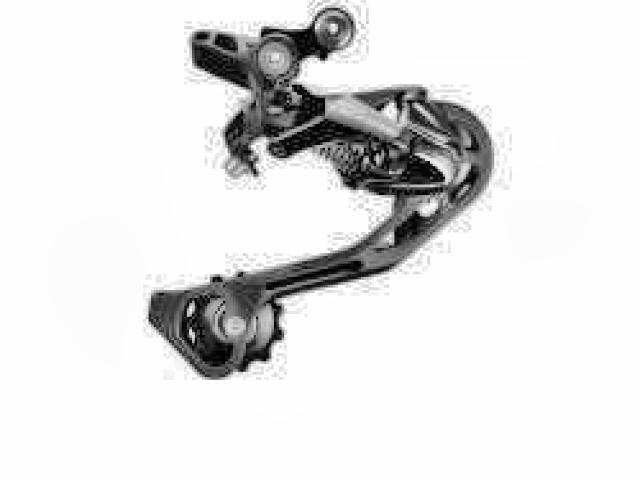rear_derailleur: (146, 6, 496, 378)
